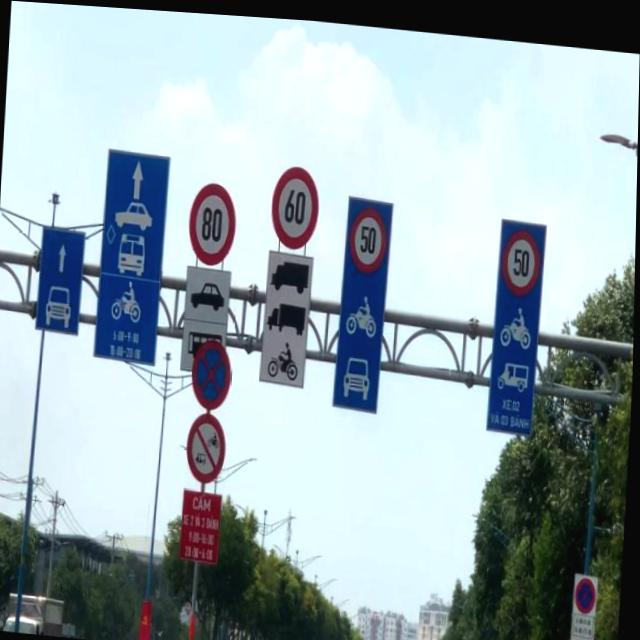Cam do xe: (571, 634, 594, 640)
Cam dung xe va do xe: (192, 335, 233, 409), (576, 568, 599, 607)
Toc do toi da cho phep: (269, 158, 321, 247), (188, 178, 239, 265), (501, 219, 542, 291), (348, 200, 389, 270)
